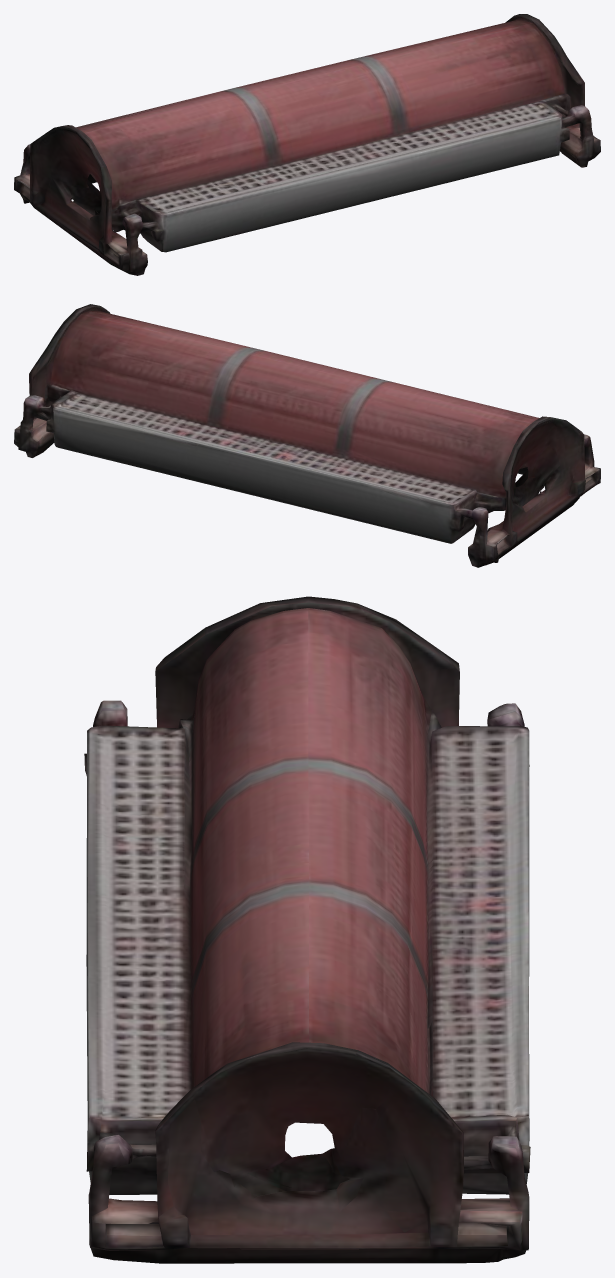
The model's file is conveyor.glb.
The picture shows the model from 3 angles, top to bottom: view 1: azimuth 30°, elevation 25°; view 2: azimuth 150°, elevation 25°; view 3: azimuth 270°, elevation 25°; orthographic projection. The views are drawn at different scales.
Visible parts, largest first — view 1: conveyor; view 2: conveyor; view 3: conveyor.
Boxes of the visible parts, x1,y1,x2,y2 form: conveyor: (14, 14, 600, 275); conveyor: (14, 304, 600, 567); conveyor: (84, 596, 530, 1263).
Bounding box in the file's own units: 0.9979 × 0.2178 × 0.3992.
Materials: 1 (1 with a texture image).
